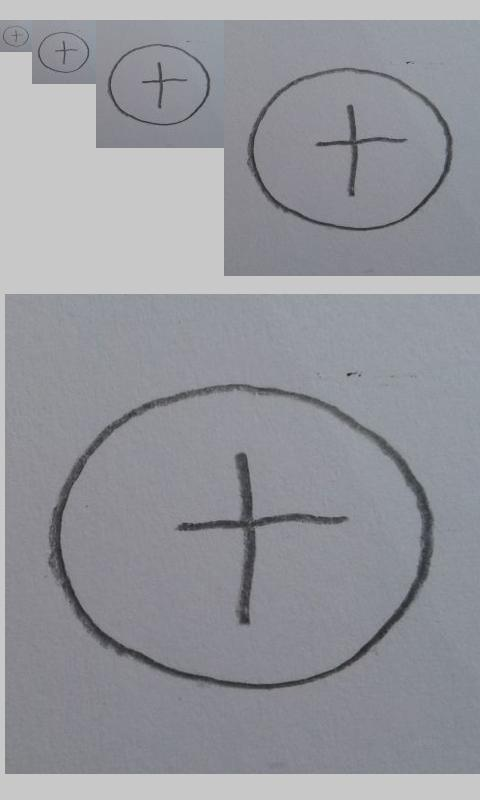button: (46, 380, 435, 692), (247, 68, 453, 232), (108, 43, 210, 126), (38, 31, 90, 74), (2, 25, 30, 48)
